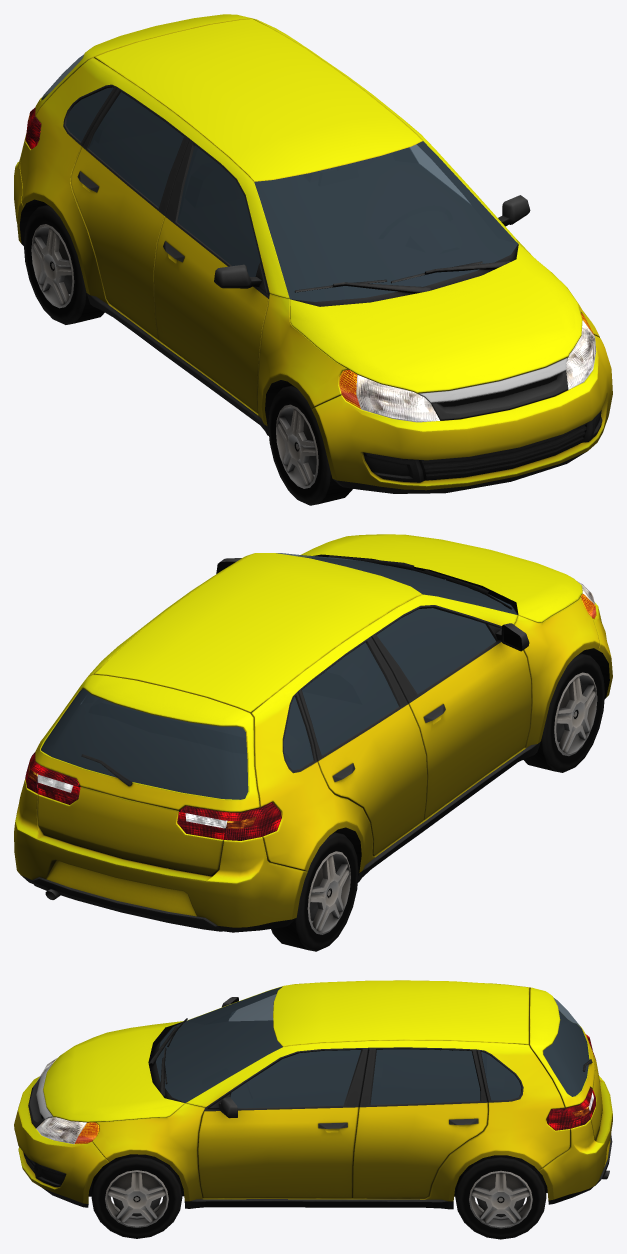
Rendered from road-hatch.glb.
The picture shows the model from 3 angles, top to bottom: view 1: azimuth 30°, elevation 25°; view 2: azimuth 150°, elevation 25°; view 3: azimuth 270°, elevation 25°; orthographic projection. The views are drawn at different scales.
Visible parts, largest first — view 1: Body, Wheel_FR, Wheel_RR; view 2: Body, Wheel_RR, Wheel_FR; view 3: Body, Wheel_FL, Wheel_RL.
Part boxes in pixels (box(x1,y1,x2,y2)): Body: box(14, 14, 612, 493); Wheel_FR: box(268, 385, 352, 505); Wheel_RR: box(23, 205, 104, 324); Body: box(14, 534, 612, 932); Wheel_RR: box(271, 832, 358, 951); Wheel_FR: box(523, 653, 604, 772); Body: box(14, 980, 612, 1209); Wheel_FL: box(91, 1154, 182, 1238); Wheel_RL: box(455, 1155, 546, 1239).
Bounding box in the file's own units: 1.8 × 1.4 × 4.1.
5 materials, 4 textured.
